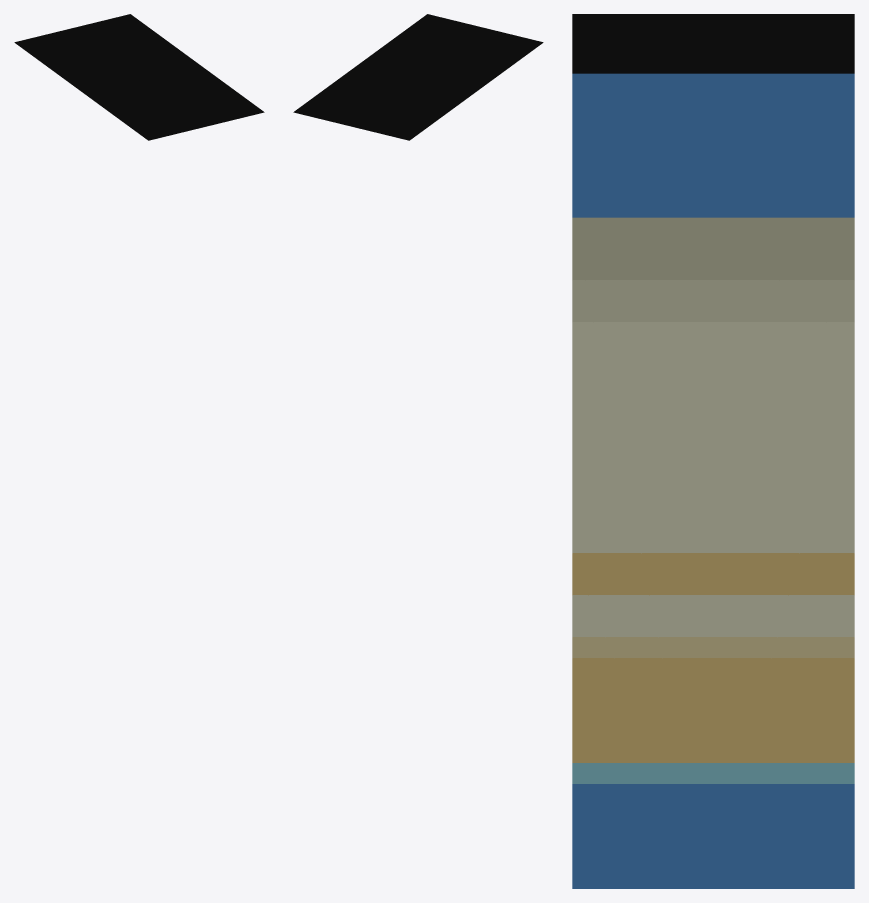
3 views of the same model, side by side, from view 1: azimuth 30°, elevation 25°; view 2: azimuth 150°, elevation 25°; view 3: azimuth 270°, elevation 25° (orthographic). The views are drawn at different scales.
Bounding box in the file's own units: 0.5 × 3.19 × 1.
2 materials, 2 textured.
